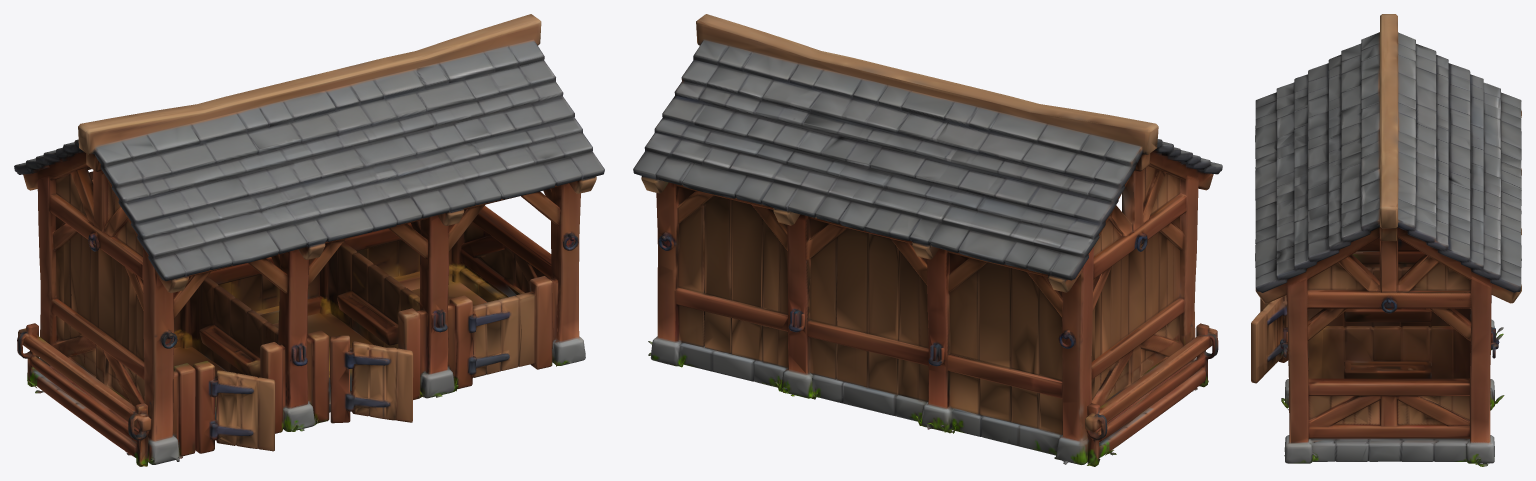
File: stable-a.glb
The picture shows the model from 3 angles, left to right: view 1: azimuth 30°, elevation 25°; view 2: azimuth 150°, elevation 25°; view 3: azimuth 270°, elevation 25°; orthographic projection. The views are drawn at different scales.
Parts seen in each view (by area): view 1: node_0; view 2: node_0; view 3: node_0.
Part boxes in pixels (bbox=[...]): node_0: bbox=[14, 14, 604, 466]; node_0: bbox=[633, 14, 1222, 466]; node_0: bbox=[1251, 14, 1521, 466].
Bounding box in the file's own units: 0.9723 × 0.6024 × 0.5632.
Materials: 1 (1 with a texture image).
